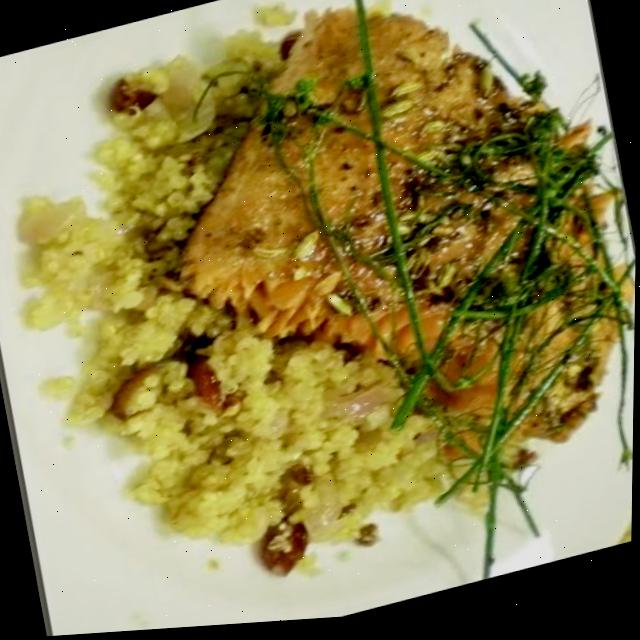熟制海鲜: (92, 0, 640, 598)
